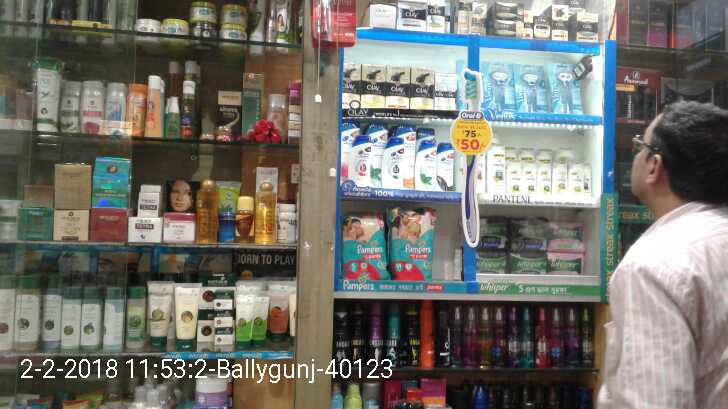venus: (551, 64, 586, 114), (517, 63, 551, 114), (489, 63, 517, 107)
